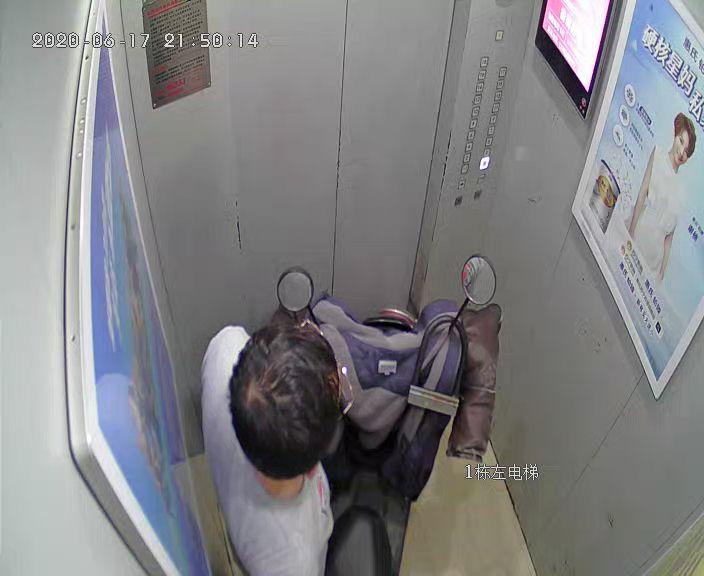Electric-bicycle: (279, 255, 498, 574)
